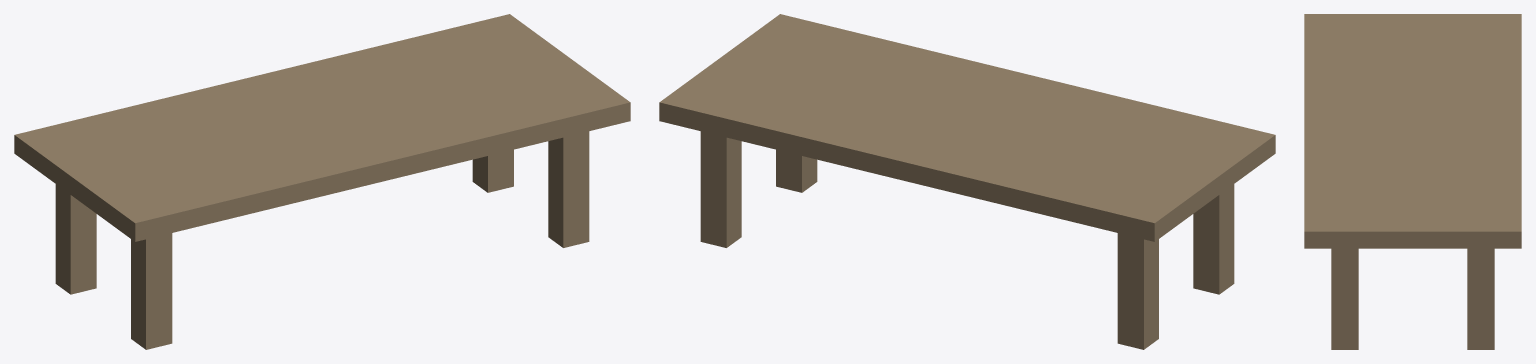
File: table.fbx
The picture shows the model from 3 angles, left to right: view 1: azimuth 30°, elevation 25°; view 2: azimuth 150°, elevation 25°; view 3: azimuth 270°, elevation 25°; orthographic projection. The views are drawn at different scales.
Visible parts, largest first — view 1: pCube4; view 2: pCube4; view 3: pCube4.
Part boxes in pixels (left/top/right/bottom): pCube4: left=14, top=14, right=630, bottom=349; pCube4: left=659, top=14, right=1275, bottom=349; pCube4: left=1304, top=14, right=1521, bottom=349.
Bounding box in the file's own units: 17.44 × 4.85 × 7.37.
